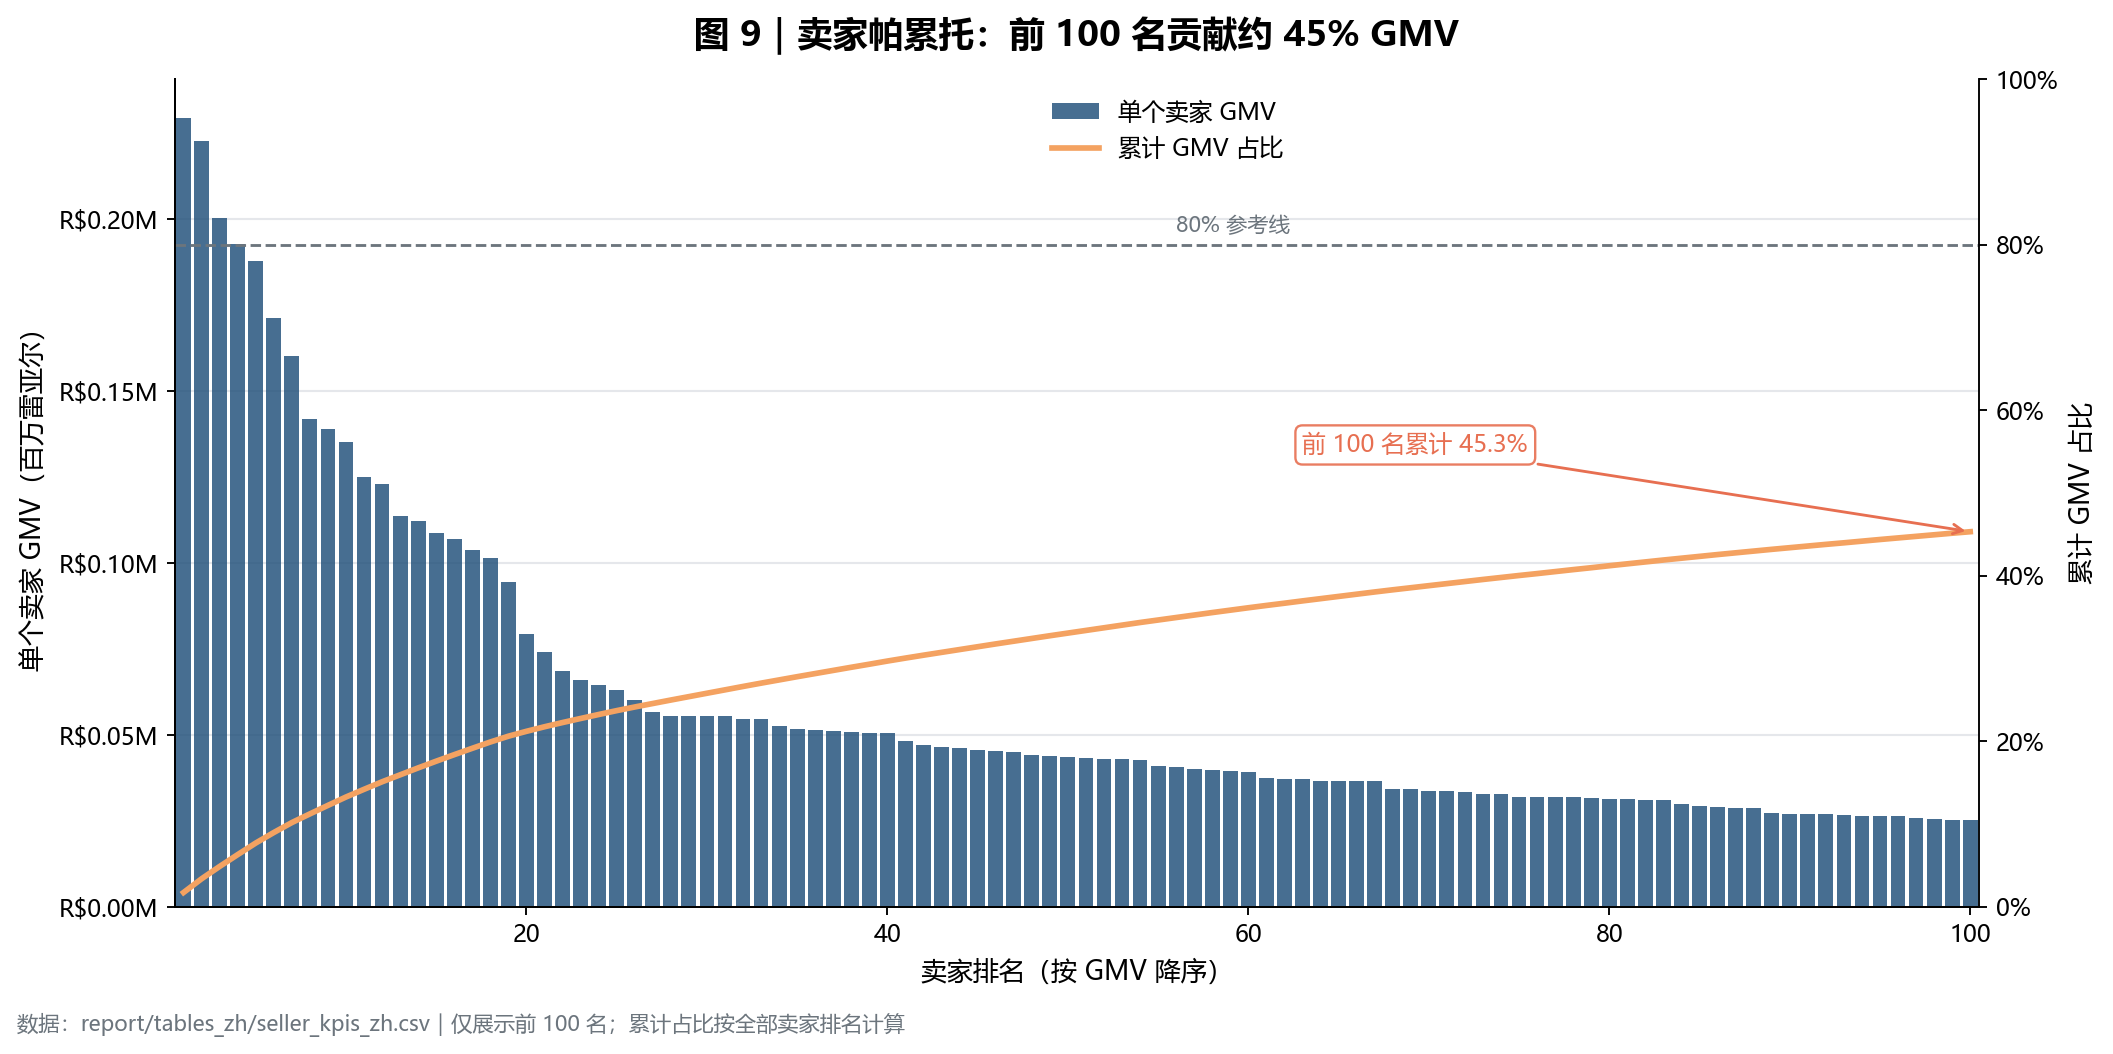

The dashboard page shown, as its layout file describes it:
{"tool":"powerbi","page":{"name":"09 卖家集中度","canvas":[1920,1080],"ordinal":8},"visuals":[{"type":"lineClusteredColumnComboChart","title":"卖家帕累托：前 100 名贡献约 45% GMV","fields":{"Category":["seller_kpis_zh.卖家排名"],"Y":["Sum(seller_kpis_zh.商品GMV)"],"Y2":["Avg(seller_kpis_zh.累计GMV占比)"]},"box":[80,40,1200,760],"z":0}]}

Visuals, with their boxes on the page's 1920x1080 design canvas (x1, y1, x2, y2). These are canvas units, not pixel positions in the 2113x1054 screenshot, which may show the page scaled, cropped or inside an application window:
"卖家帕累托：前 100 名贡献约 45% GMV" lineClusteredColumnComboChart: Rect(80, 40, 1280, 800)
